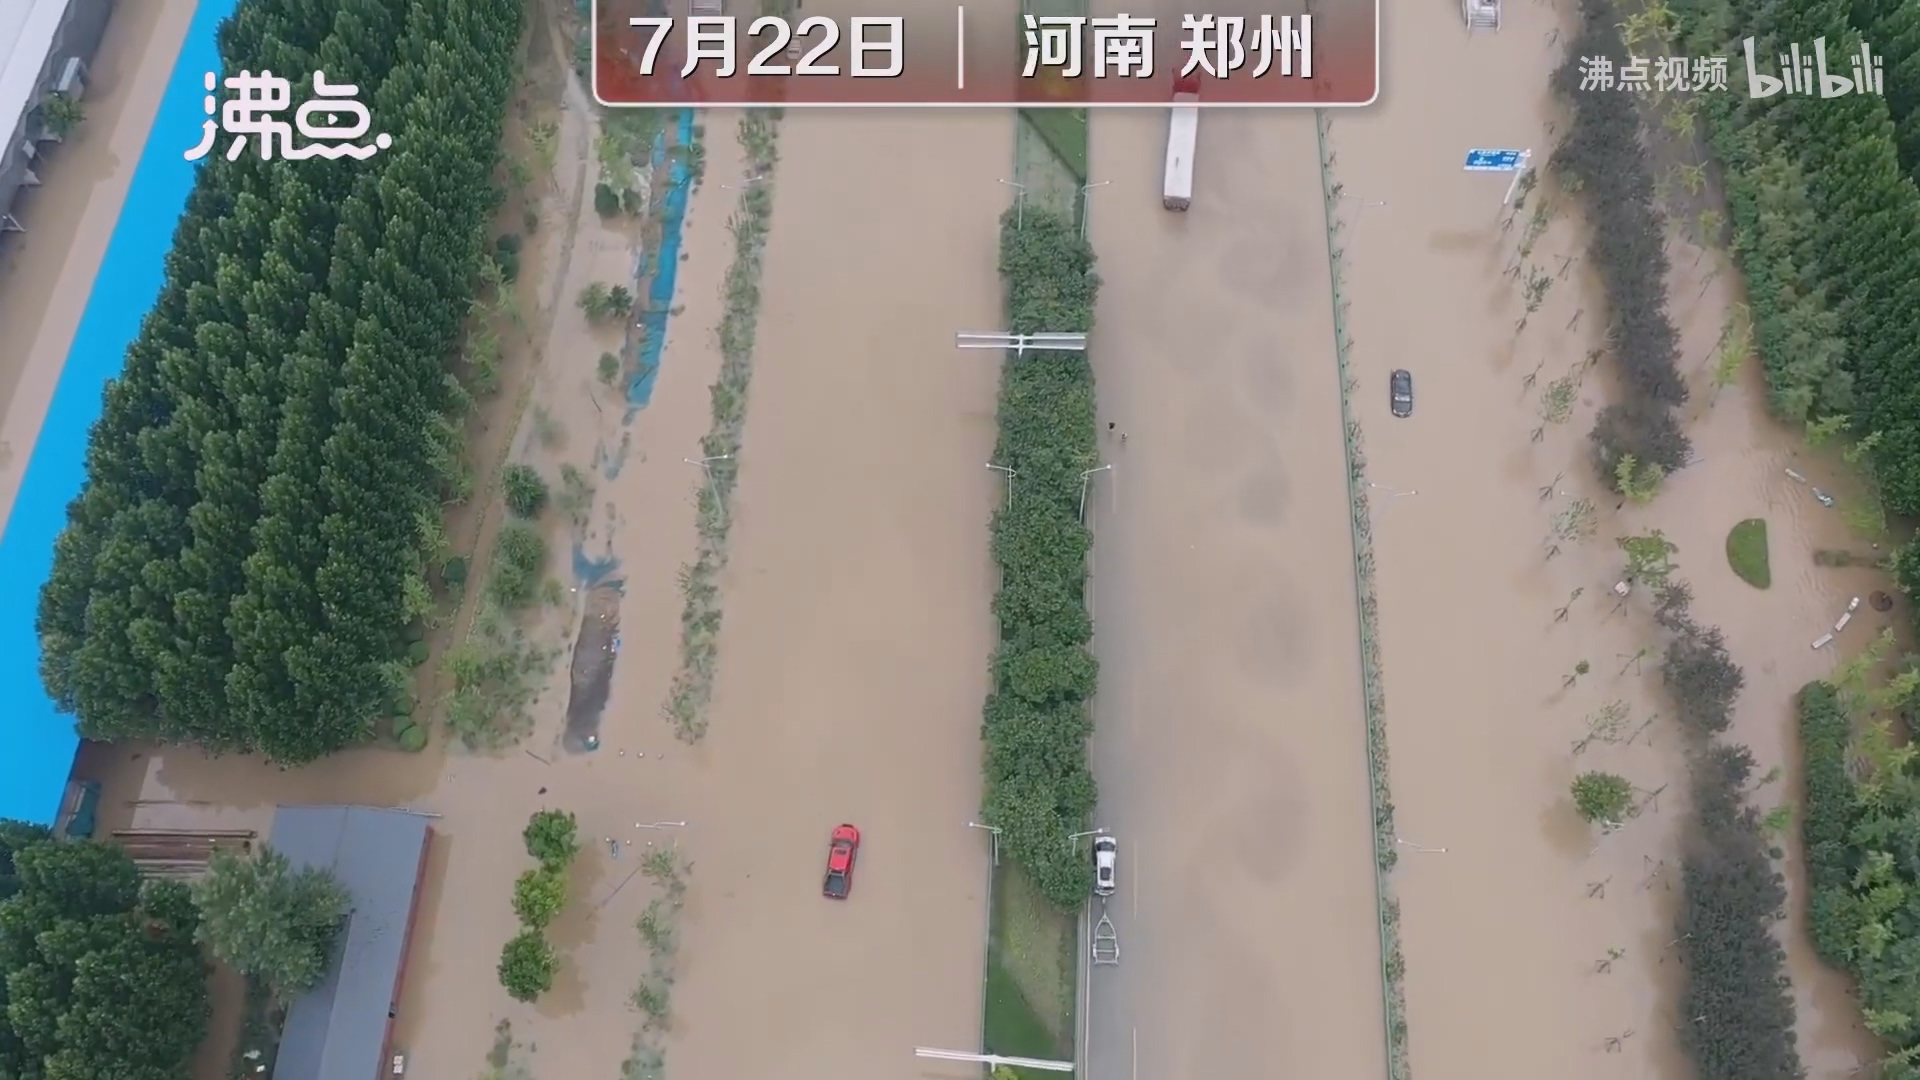puddle: (446, 164, 1054, 1080), (1069, 177, 1681, 1080)
